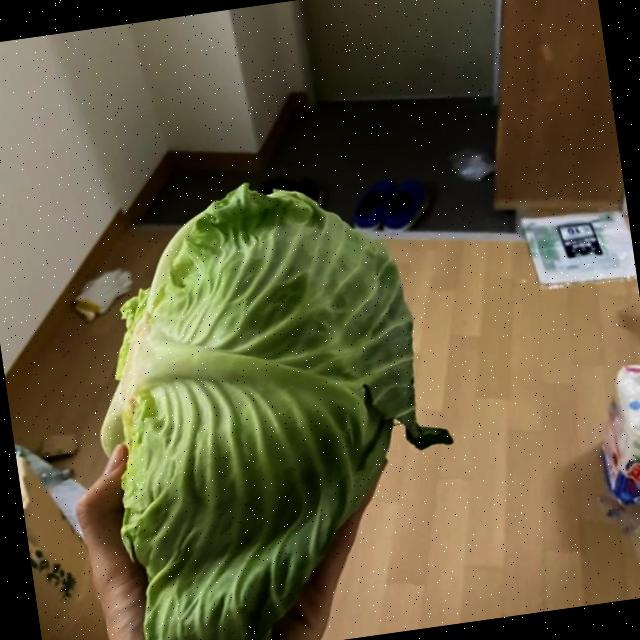cabbage: (65, 154, 485, 640)
